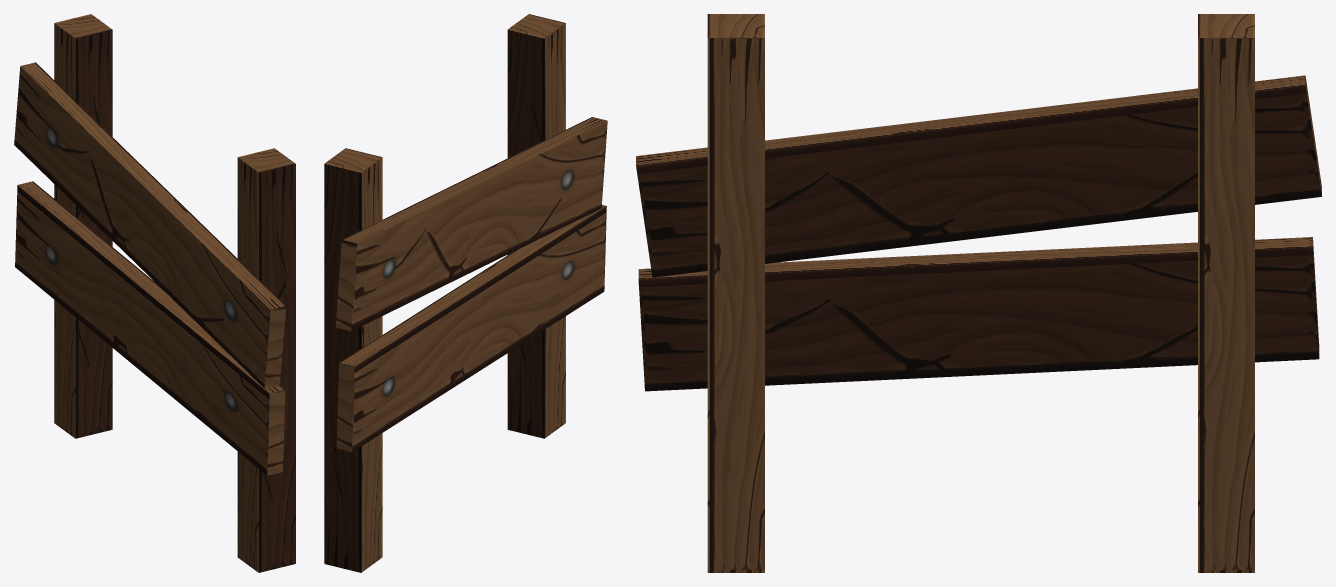
Rendered from WoodFence 2.fbx.
The picture shows the model from 3 angles, left to right: view 1: azimuth 30°, elevation 25°; view 2: azimuth 150°, elevation 25°; view 3: azimuth 270°, elevation 25°; orthographic projection. The views are drawn at different scales.
Parts seen in each view (by area): view 1: polySurface19; view 2: polySurface19; view 3: polySurface19.
Boxes of the visible parts, x1,y1,x2,y2 form: polySurface19: (14,14,295,572); polySurface19: (324,14,607,572); polySurface19: (636,14,1321,572).
Size of the model in its own units: 2.36 by 17.35 by 20.17.
1 material, 1 textured.
